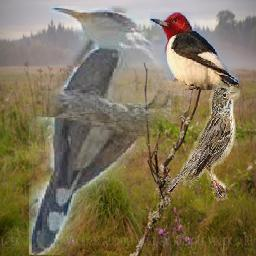Cuckoo: (29, 7, 171, 256)
Sparrow: (162, 81, 240, 201)
Woodpecker: (151, 12, 240, 90)
